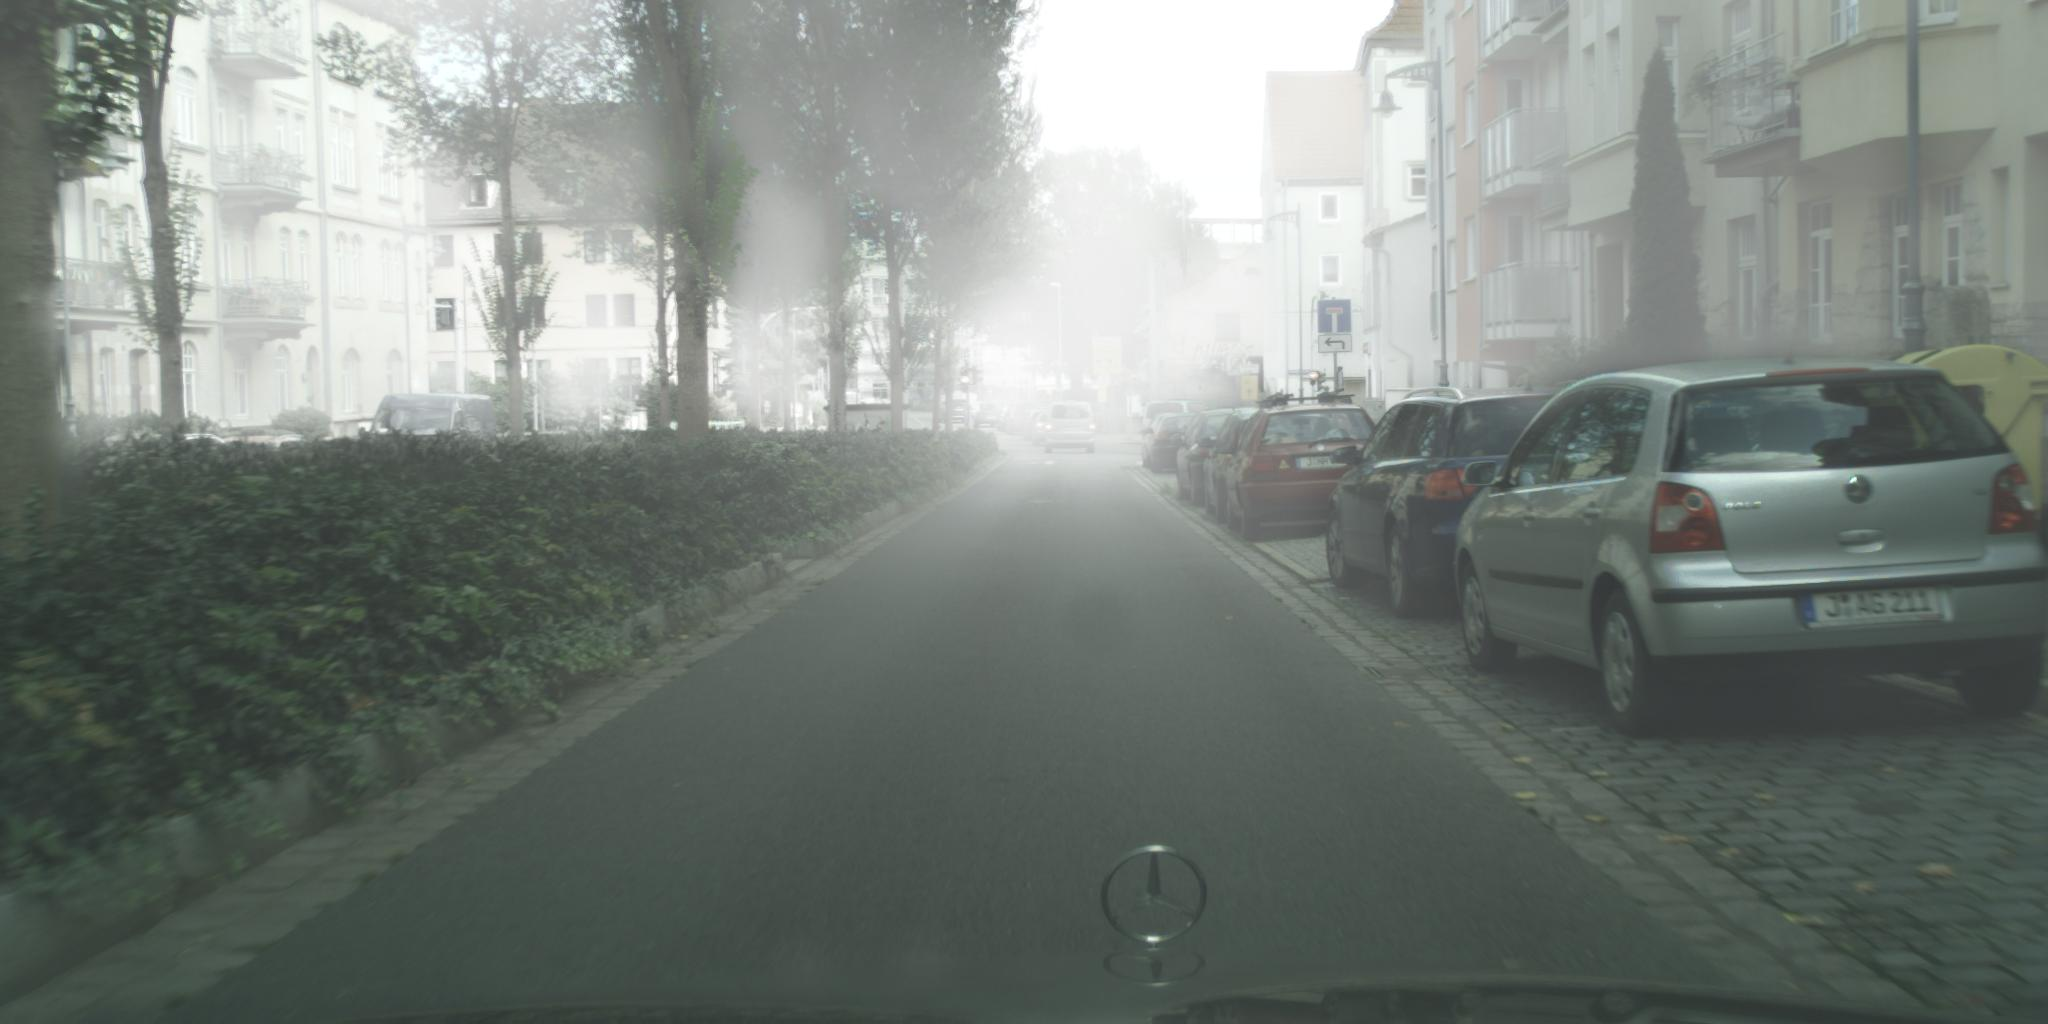car: (1455, 357, 2048, 741), (1324, 381, 1595, 620), (1224, 396, 1383, 545), (368, 392, 499, 475), (1170, 408, 1256, 507), (1200, 411, 1267, 525), (1143, 401, 1225, 451), (1147, 415, 1202, 478), (1185, 357, 1266, 394), (1046, 402, 1096, 455), (1143, 414, 1189, 470), (935, 398, 977, 424), (1021, 411, 1053, 443), (1007, 408, 1038, 438), (970, 402, 1006, 428), (1032, 414, 1055, 449), (995, 408, 1021, 434)
